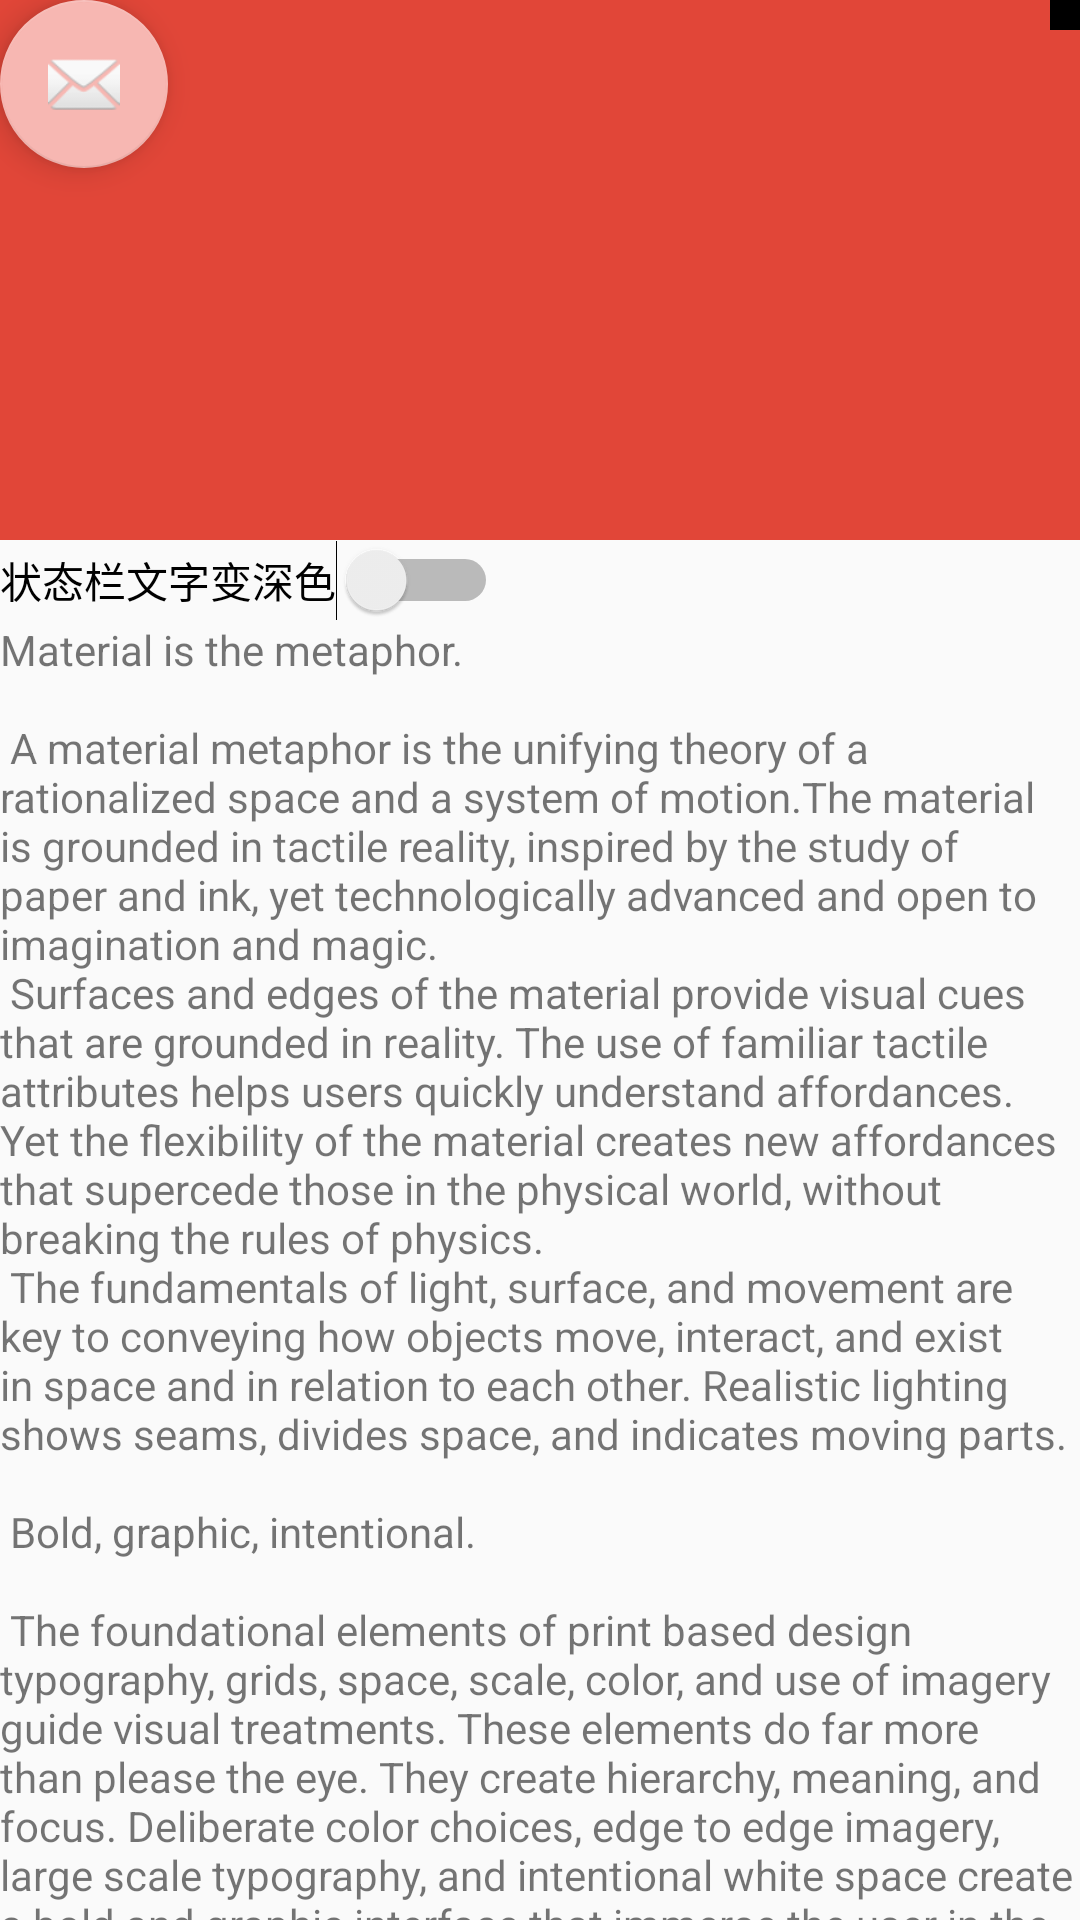

Icon bounding boxes for this 1080 x 1920 phone screenshot, format Rect(x1, y1, x2, y2):
email: Rect(0, 0, 168, 168)
